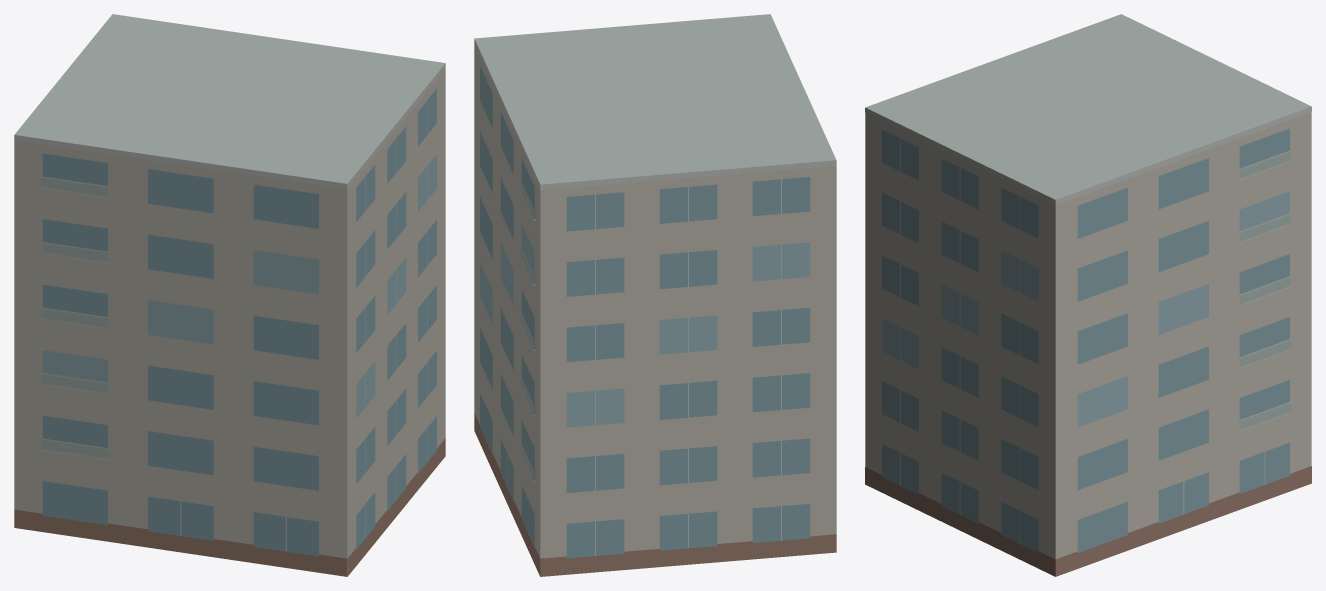
Rendered from survey-upis-32995911.glb.
3 views of the same model, side by side, from view 1: azimuth 30°, elevation 25°; view 2: azimuth 150°, elevation 25°; view 3: azimuth 270°, elevation 25° (orthographic). The views are drawn at different scales.
Parts seen in each view (by area): view 1: survey-upis-32995911.tmp; view 2: survey-upis-32995911.tmp; view 3: survey-upis-32995911.tmp.
Part boxes in pixels (<box>): survey-upis-32995911.tmp: <box>14,14,445,576</box>; survey-upis-32995911.tmp: <box>474,14,836,576</box>; survey-upis-32995911.tmp: <box>865,14,1311,576</box>.
Size of the model in its own units: 18.19 by 17.2 by 18.48.
